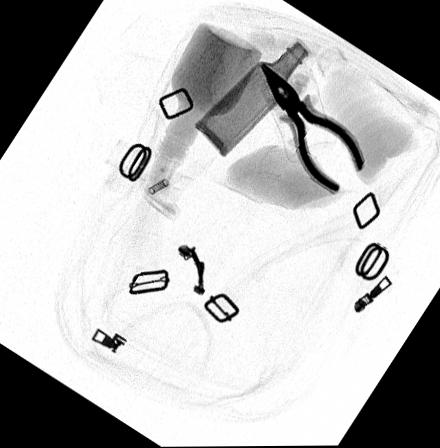Pliers: (256, 59, 363, 193)
